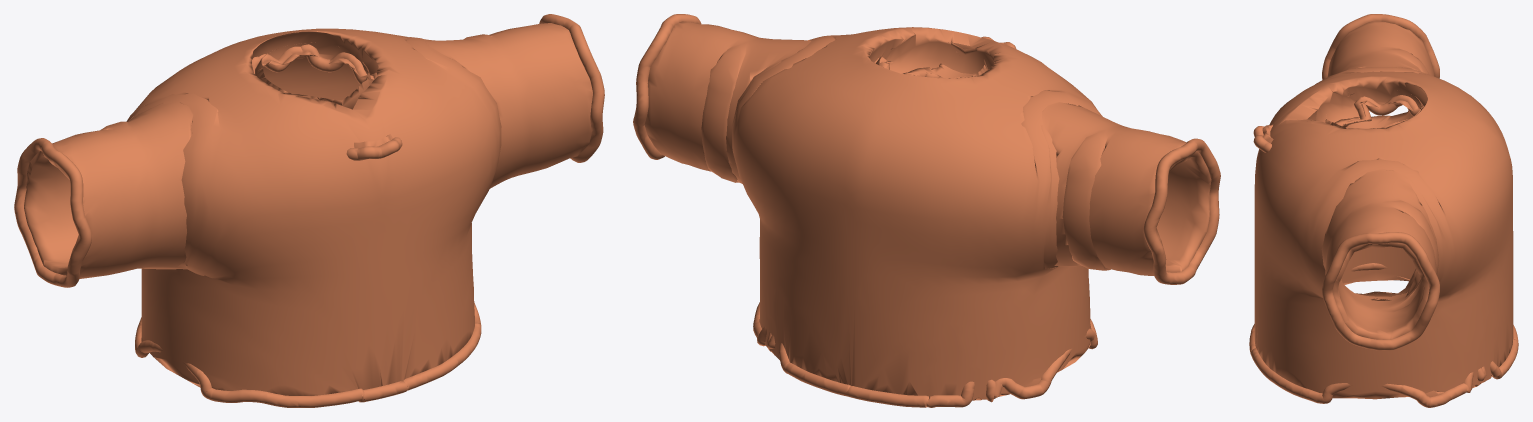
Rendered from 3HT-masculino.glb.
3 views of the same model, side by side, from view 1: azimuth 30°, elevation 25°; view 2: azimuth 150°, elevation 25°; view 3: azimuth 270°, elevation 25° (orthographic). The views are drawn at different scales.
Parts seen in each view (by area): view 1: fitted-shell, bound-edge (×4); view 2: fitted-shell, bound-edge (×3); view 3: fitted-shell, bound-edge (×4).
Part boxes in pixels (bbox=[...]): fitted-shell: bbox=[24, 23, 592, 395]; bound-edge (×4): bbox=[14, 14, 604, 407]; fitted-shell: bbox=[644, 21, 1211, 400]; bound-edge (×3): bbox=[633, 14, 1220, 407]; fitted-shell: bbox=[1254, 21, 1513, 399]; bound-edge (×4): bbox=[1249, 14, 1518, 407].
Bounding box in the file's own units: 0.063 × 0.0326 × 0.0318.
